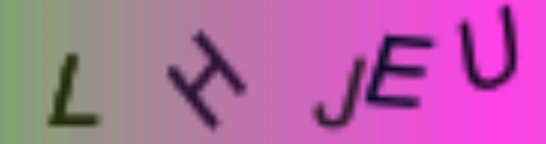E: (365, 29, 440, 110)
H: (162, 26, 245, 134)
J: (312, 52, 370, 131)
L: (46, 47, 107, 130)
U: (458, 2, 524, 94)
